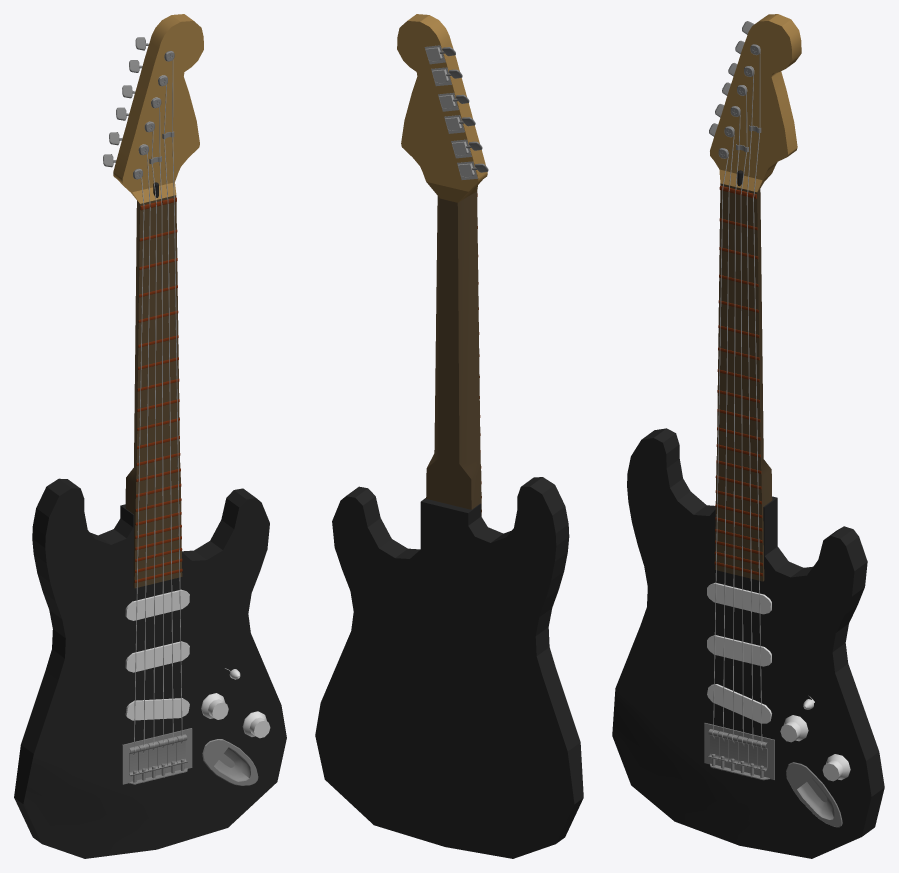
File: guitarra_baixa.fbx
3 renders of one model, left to right at view 1: azimuth 30°, elevation 25°; view 2: azimuth 150°, elevation 25°; view 3: azimuth 330°, elevation 25°, orthographic.
Parts seen in each view (by area): view 1: pPlane5, polySurface1, polySurface2, pPlane6, pCube26, pCube24, pCube25, pCube23, pCylinder13, pCylinder12, pCylinder11, pCylinder10 (+4 smaller); view 2: pPlane5, polySurface1, polySurface2; view 3: pPlane5, polySurface1, polySurface2, pPlane6, pCube26, pCube25, pCube24, pCube23, pCylinder13, pCylinder11, pCylinder12, pCylinder10 (+4 smaller).
Part boxes in pixels (x1,y1,x2,y2): pPlane5: (14, 478, 286, 858); polySurface1: (125, 195, 182, 588); polySurface2: (113, 14, 203, 203); pPlane6: (202, 739, 258, 785); pCube26: (122, 728, 192, 784); pCube24: (125, 641, 189, 672); pCube25: (125, 698, 189, 720); pCube23: (125, 589, 189, 620); pCylinder13: (164, 56, 183, 743); pCylinder12: (158, 75, 174, 745); pCylinder11: (151, 97, 164, 748); pCylinder10: (144, 121, 156, 750); pPlane5: (315, 477, 583, 858); polySurface1: (426, 192, 481, 516); polySurface2: (397, 14, 487, 202); pPlane5: (612, 428, 884, 858); polySurface1: (715, 183, 772, 581); polySurface2: (710, 14, 801, 192); pPlane6: (786, 762, 842, 827); pCube26: (704, 723, 774, 780); pCube25: (707, 684, 771, 723); pCube24: (707, 635, 771, 666); pCube23: (707, 582, 771, 614); pCylinder13: (753, 46, 762, 750); pCylinder11: (740, 85, 747, 745); pCylinder12: (746, 66, 754, 748); pCylinder10: (732, 106, 740, 743).
Bounding box in the file's own units: 11.36 × 34.22 × 1.76.
